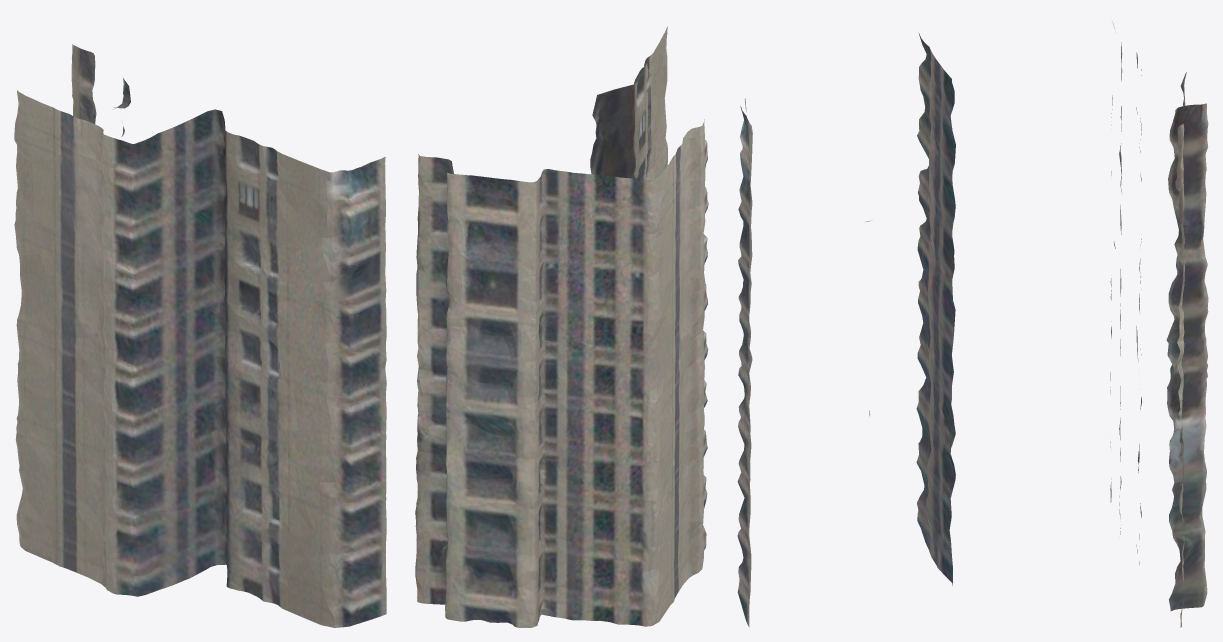
The model's file is Tile__001__004_L22_00033000.glb.
3 renders of one model, left to right at view 1: azimuth 30°, elevation 25°; view 2: azimuth 150°, elevation 25°; view 3: azimuth 270°, elevation 25°, orthographic. The views are drawn at different scales.
Parts seen in each view (by area): view 1: root; view 2: root; view 3: root.
Boxes of the visible parts, x1,y1,x2,y2 form: root: (14, 44, 386, 627); root: (415, 26, 708, 627); root: (737, 22, 1208, 627).
Bounding box in the file's own units: 9.84 × 20.37 × 17.32.
1 material, 1 textured.
